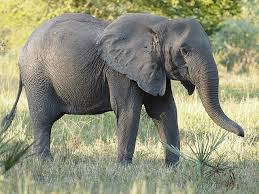Elephant: (9, 11, 252, 177)
